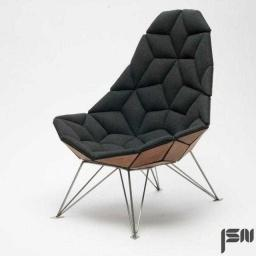Chair: (55, 10, 223, 239)
